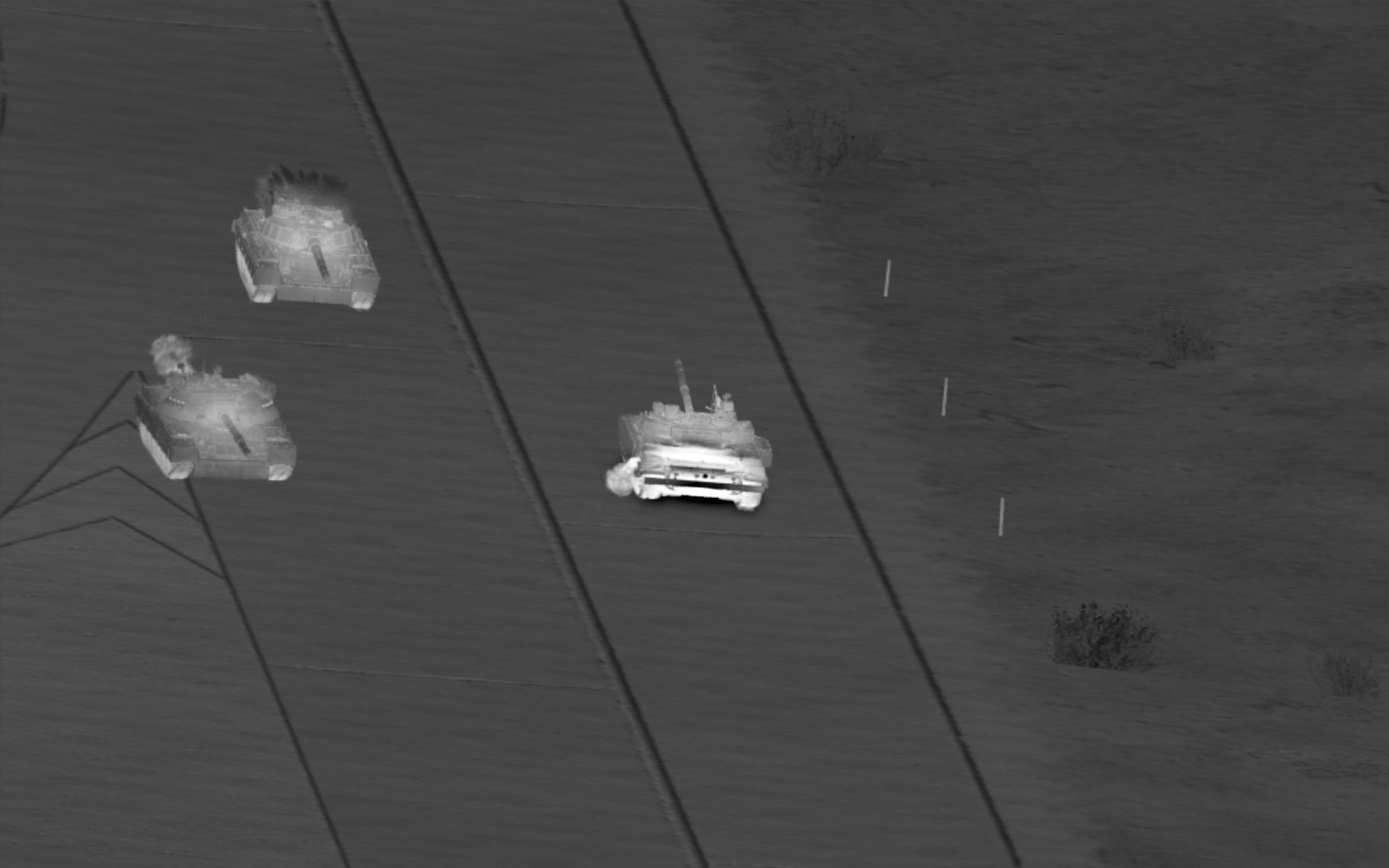t72b: (616, 359, 775, 512), (133, 368, 298, 482)
